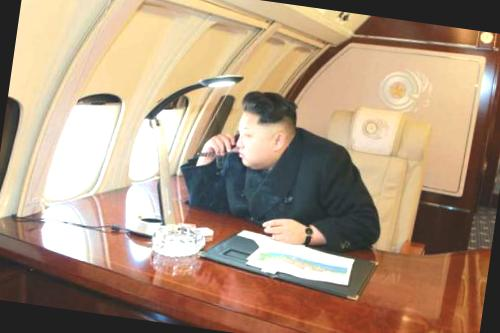no_helmet: (230, 85, 302, 172)
